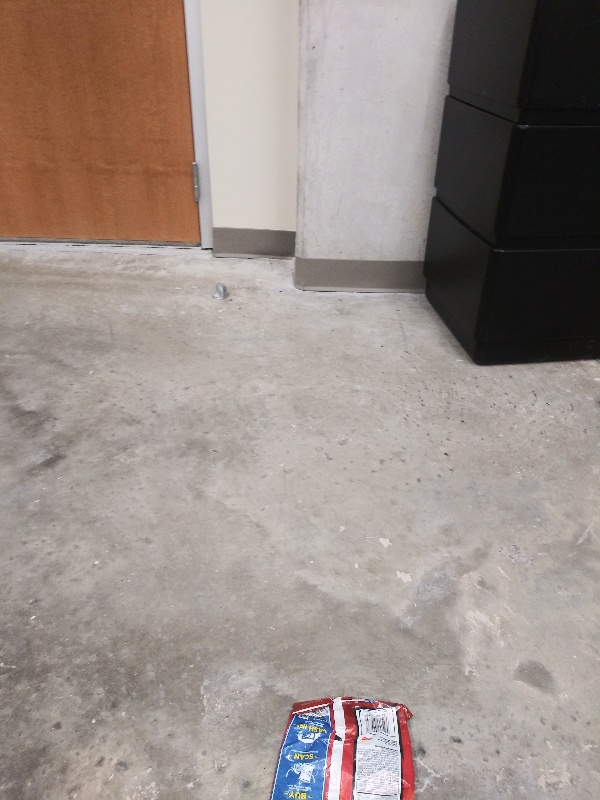bag: (267, 692, 420, 800)
